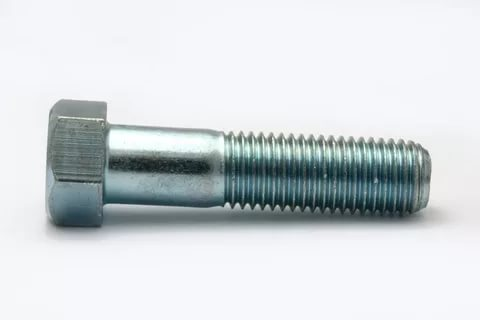screw: (44, 99, 433, 229)
